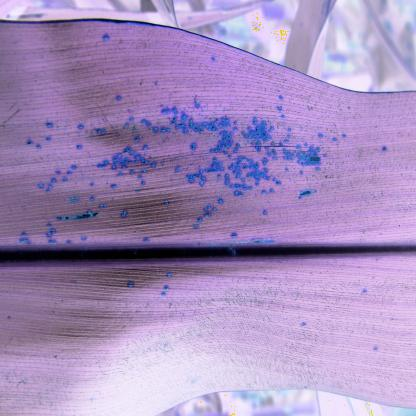corn rust leaf: (5, 22, 412, 411)
